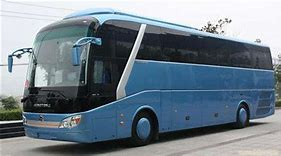bigcar: (4, 6, 278, 145)
